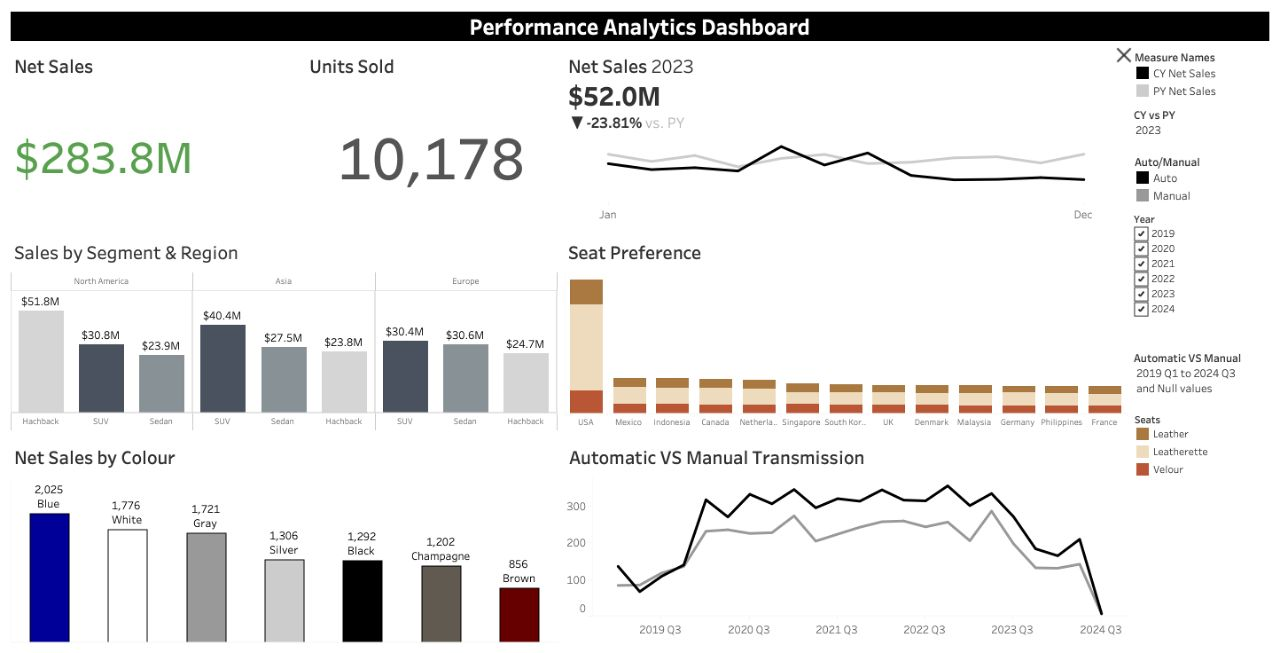

The dashboard page shown, as its layout file describes it:
{"tool":"tableau","page":{"name":"Performance Analytics Dashboard","canvas":[1000,1000],"units":"permille","ordinal":1},"visuals":[{"type":"title","box":[5.5,10.9,988.9,55.9]},{"type":"worksheet","title":"Net Sales","mark":"Automatic","box":[5.5,66.8,230.7,286.2]},{"type":"worksheet","title":"Total Car Sold","mark":"Automatic","box":[236.2,66.8,202.3,286.2]},{"type":"worksheet","title":"Total Sales","mark":"Automatic","cols":["Date of Sale"],"box":[438.6,66.8,444.4,286.1]},{"type":"dashboard-object","box":[869.1,66.8,18.6,32.7]},{"type":"legend","title":"Total Sales","param":"[federated.0cghsrr13k6may1e0e3ot165c9ia].[:Measure Names]","box":[883,66.8,111.5,89.9]},{"type":"parameter","param":"[Parameters].[Parameter 1]","box":[883,156.7,111.5,70.9]},{"type":"legend","title":"Auto/Manual","param":"[federated.0cghsrr13k6may1e0e3ot165c9ia].[none:Auto/Manual:nk]","box":[883,227.5,111.5,89.9]},{"type":"filter","title":"Seats","param":"[federated.0cghsrr13k6may1e0e3ot165c9ia].[yr:Date of Sale:ok]","box":[883,317.4,111.5,212.5]},{"type":"worksheet","title":"Sales by Segment ","mark":"Automatic","rows":["Net Revenue"],"cols":["Sales Region","Segment"],"box":[5.5,352.9,433,313.3]},{"type":"worksheet","title":"Seats","mark":"Automatic","rows":["VIN #"],"cols":["Country of Sale"],"box":[438.6,352.9,444.4,313.4]},{"type":"filter","title":"Auto/Manual","param":"[federated.0cghsrr13k6may1e0e3ot165c9ia].[tqr:Date of Sale:qk]","box":[883,530,111.5,94]},{"type":"legend","title":"Seats","param":"[federated.0cghsrr13k6may1e0e3ot165c9ia].[none:Seats:nk]","box":[883,624,111.5,114.4]},{"type":"worksheet","title":"Colour","mark":"Bar","rows":["EON + Tariff_B5273A7A973C46E3A3B1030D016AD786"],"cols":["Color"],"box":[5.5,666.2,433.2,322.9]},{"type":"worksheet","title":"Auto/Manual","mark":"Automatic","rows":["Model"],"cols":["Date of Sale"],"box":[438.7,666.2,444.2,322.9]}]}

Visuals, with their boxes on the dashboard's canvas, which has no fixed pixel size, in thousandths of its width and height (x1, y1, x2, y2). These are canvas units, not pixel positions in the 1280x653 screenshot, which may show the page scaled, cropped or inside an application window:
title: (x1=6, y1=11, x2=994, y2=67)
"Net Sales" worksheet: (x1=6, y1=67, x2=236, y2=353)
"Total Car Sold" worksheet: (x1=236, y1=67, x2=438, y2=353)
"Total Sales" worksheet: (x1=439, y1=67, x2=883, y2=353)
dashboard-object: (x1=869, y1=67, x2=888, y2=100)
"Total Sales" legend: (x1=883, y1=67, x2=994, y2=157)
parameter: (x1=883, y1=157, x2=994, y2=228)
"Auto/Manual" legend: (x1=883, y1=228, x2=994, y2=317)
"Seats" filter: (x1=883, y1=317, x2=994, y2=530)
"Sales by Segment " worksheet: (x1=6, y1=353, x2=438, y2=666)
"Seats" worksheet: (x1=439, y1=353, x2=883, y2=666)
"Auto/Manual" filter: (x1=883, y1=530, x2=994, y2=624)
"Seats" legend: (x1=883, y1=624, x2=994, y2=738)
"Colour" worksheet (Bar marks): (x1=6, y1=666, x2=439, y2=989)
"Auto/Manual" worksheet: (x1=439, y1=666, x2=883, y2=989)
